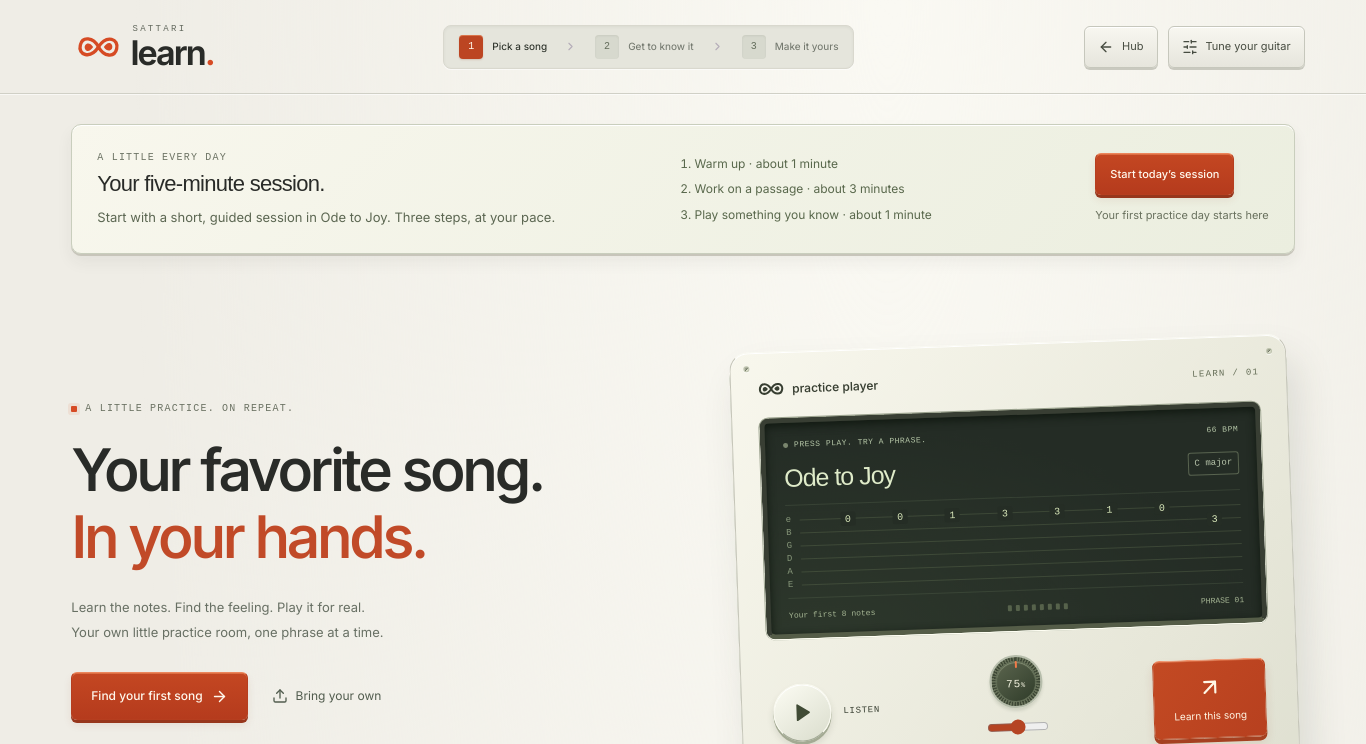
Test: opens the chord library and updates an accessible fingering diagram
Click the button "Tune your guitar" at coordinates (1236, 46), box [1168,26,1304,68]
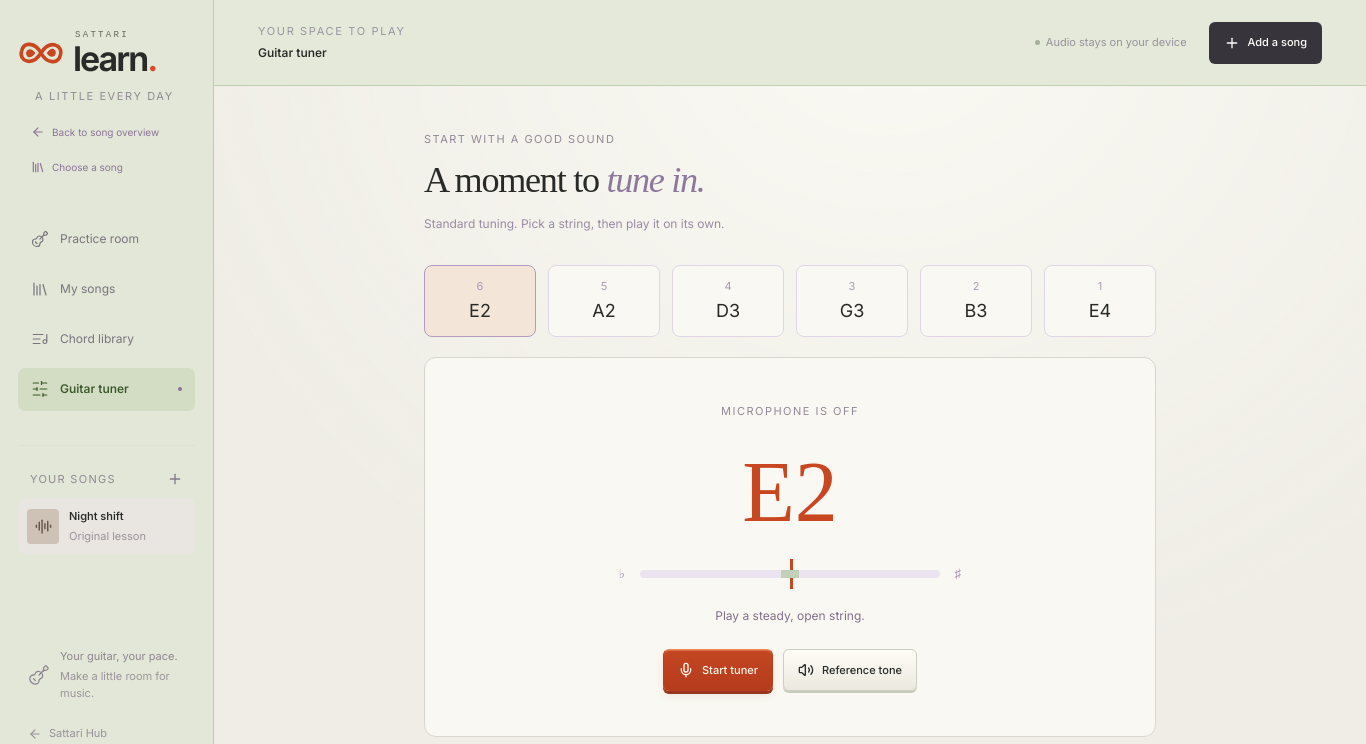
Click the button "Chord library" at coordinates (106, 339), box [18,318,195,360]
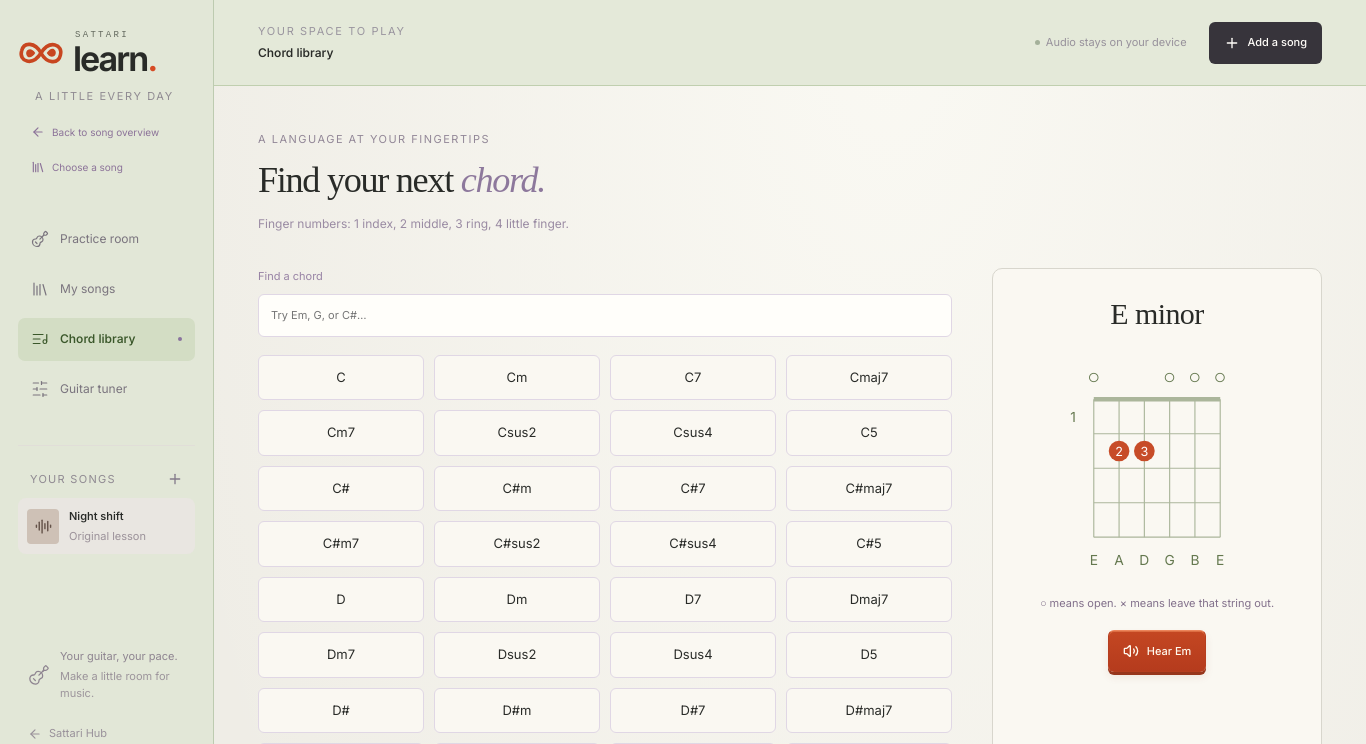
Type "F#" into the search field labelled "Find a chord" at coordinates (605, 316), box [258,294,952,337]
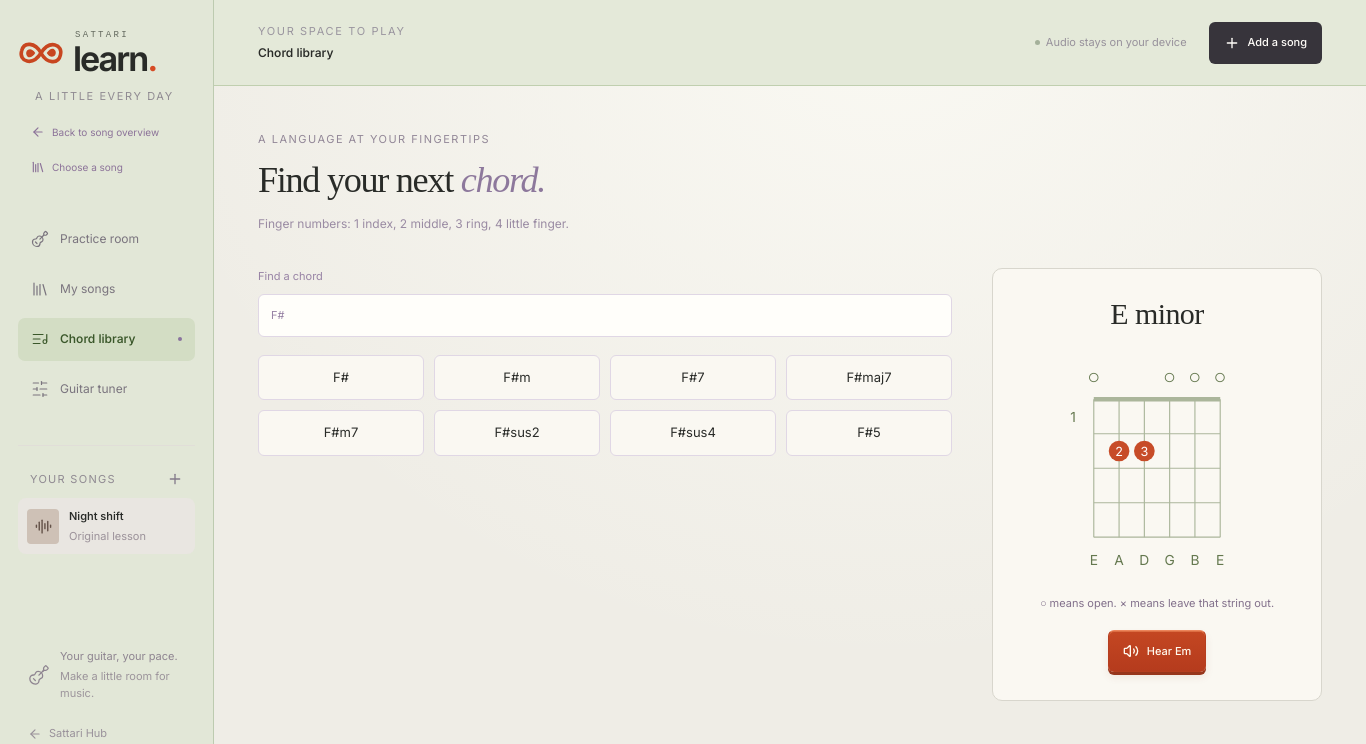
Click the button "F#m" at coordinates (517, 378), box [434,355,600,400]
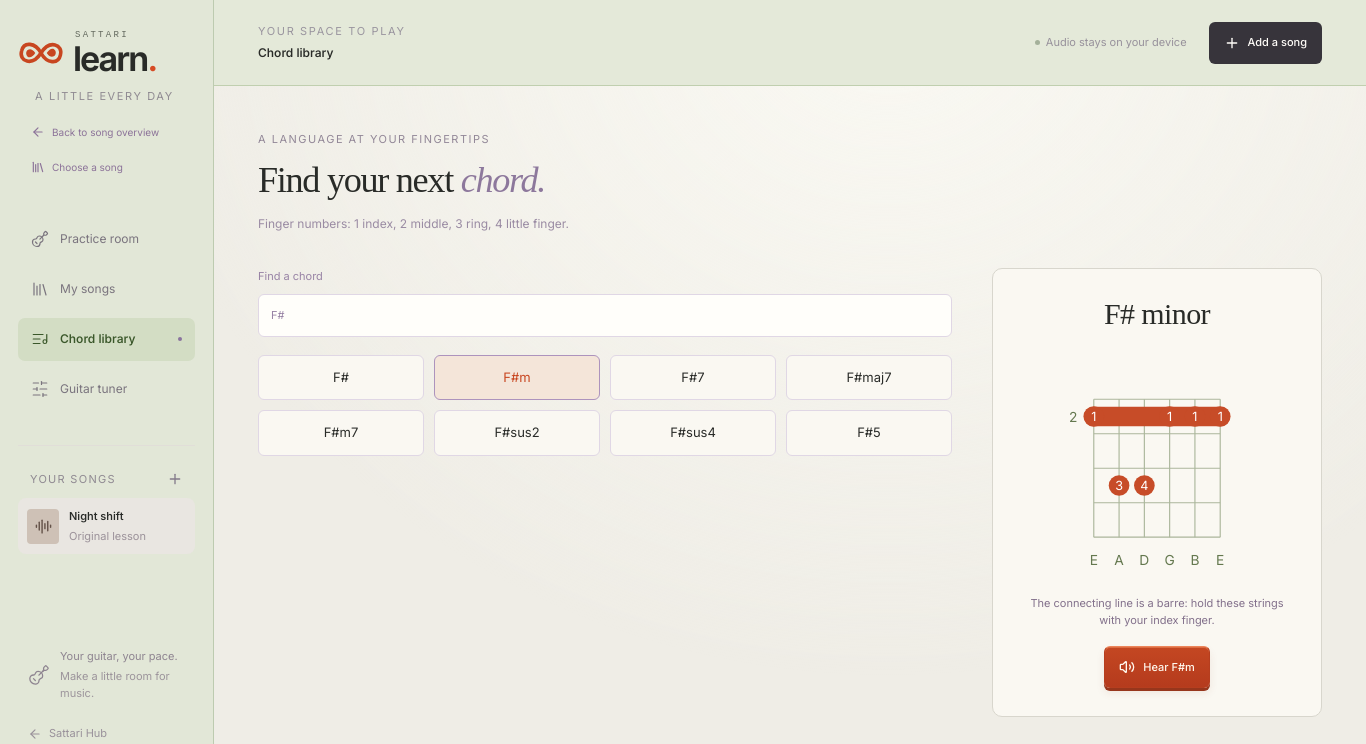
Expected: the picture named "F# minor. Frets" is shown, [1057,351,1257,577]
Expected: the button "Hear F#m" is shown, [1104,646,1210,688]
